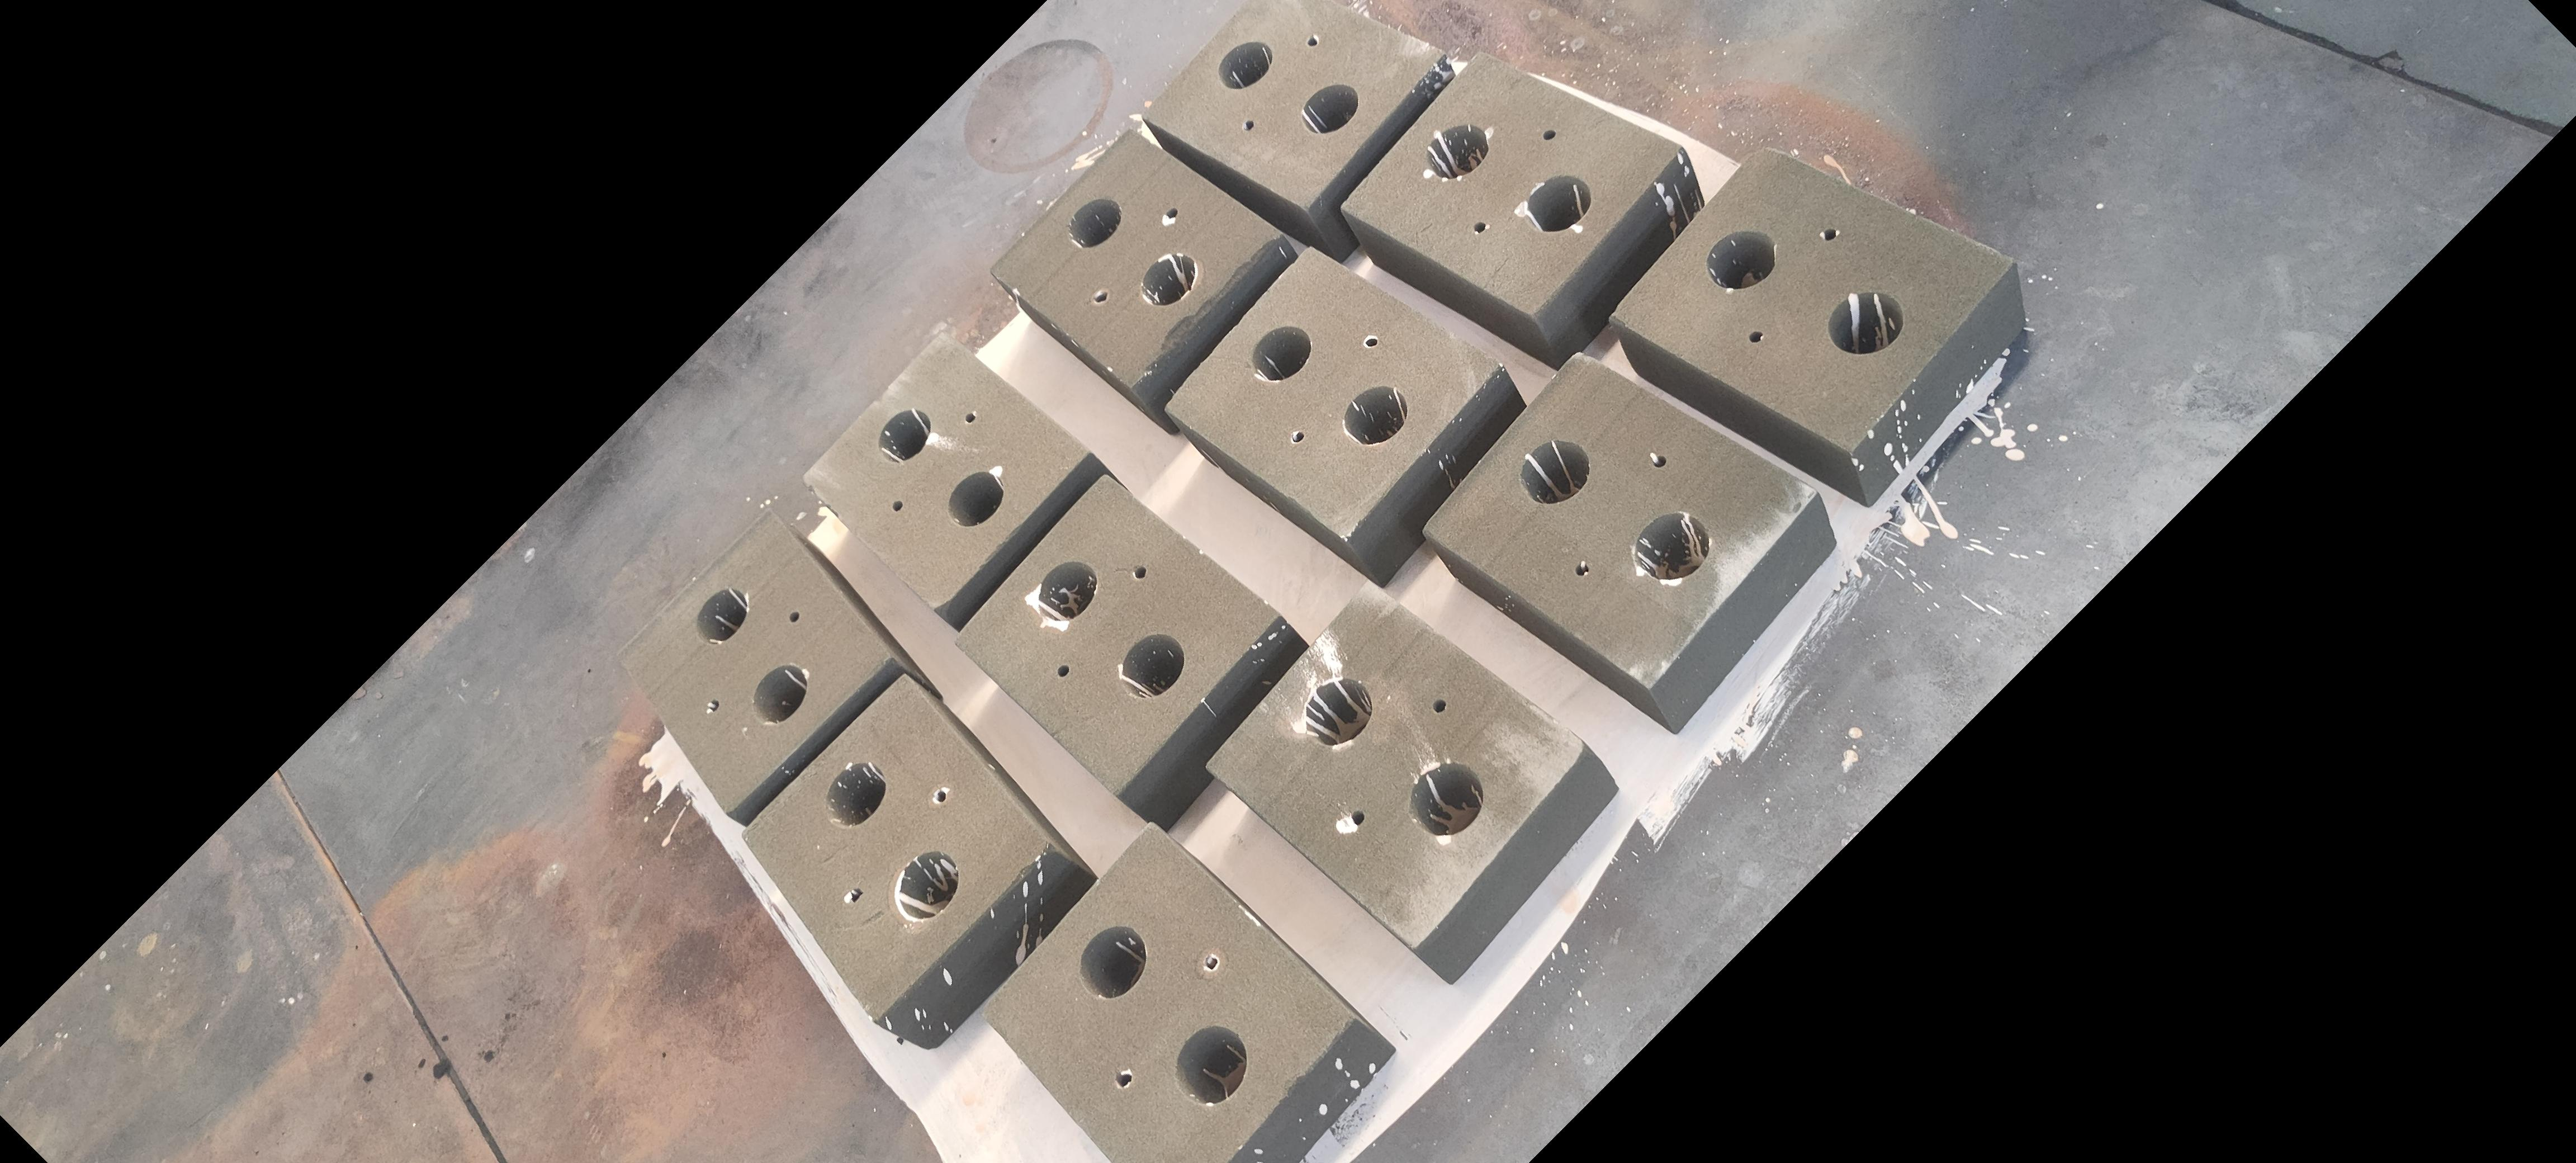pouring hole: (1173, 1027, 1249, 1106), (1410, 762, 1482, 834), (890, 851, 959, 925), (1078, 928, 1147, 1002), (1636, 511, 1709, 580), (1829, 291, 1906, 353), (1306, 677, 1373, 746), (1119, 634, 1185, 696), (1523, 442, 1590, 503), (823, 762, 885, 826), (1342, 384, 1408, 445), (1709, 230, 1776, 287), (1528, 176, 1594, 232), (1038, 562, 1097, 623), (1250, 325, 1313, 381), (751, 662, 807, 723), (946, 470, 1005, 526), (1140, 251, 1198, 307), (1424, 125, 1487, 176), (695, 588, 749, 644), (1216, 38, 1273, 90), (1300, 82, 1359, 133), (879, 407, 933, 462), (1068, 199, 1122, 248)
